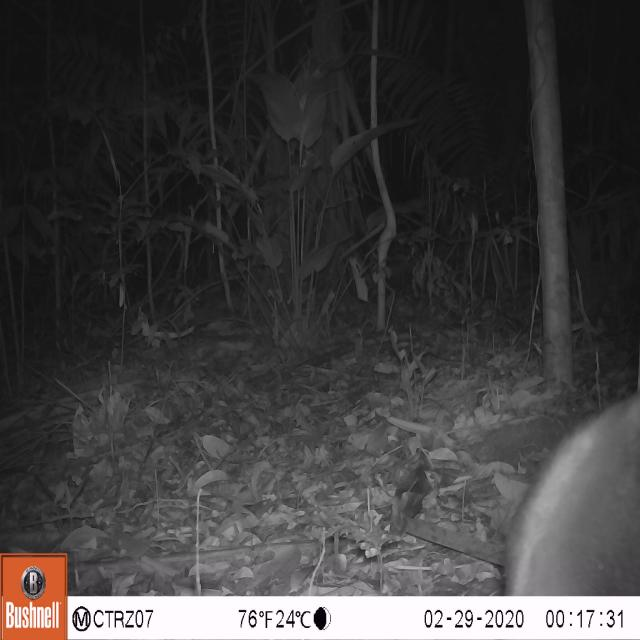Southern Tamandua: (480, 374, 640, 596)
